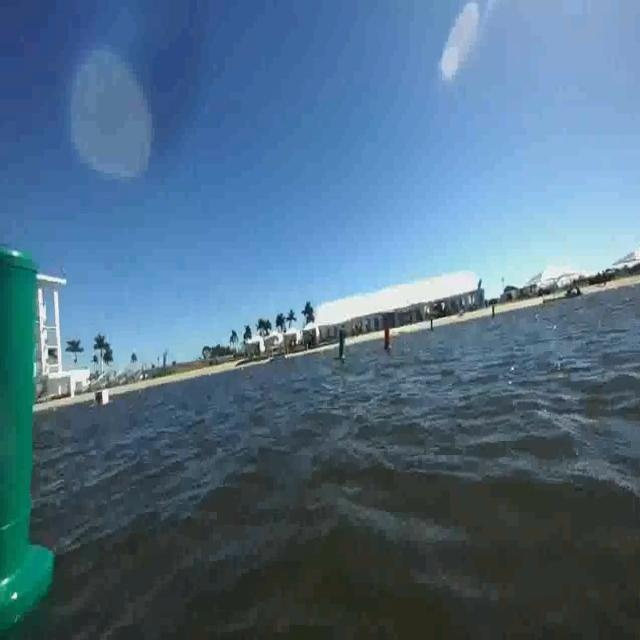green-column-buoy: (0, 246, 55, 604), (336, 326, 348, 364)
